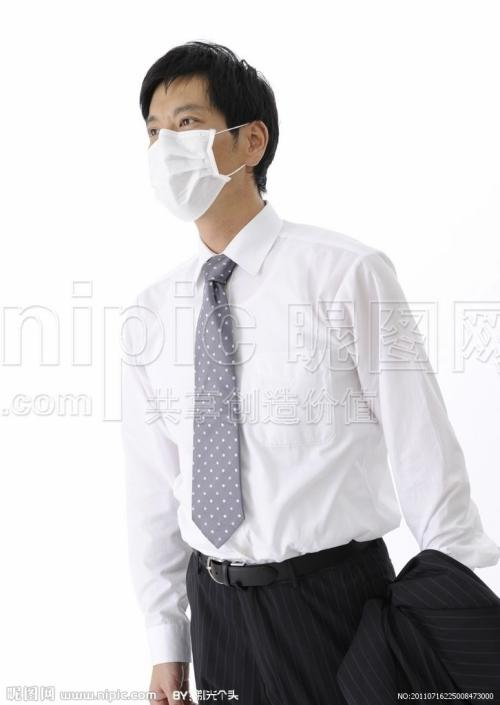correctlyWear: (140, 94, 268, 226)
